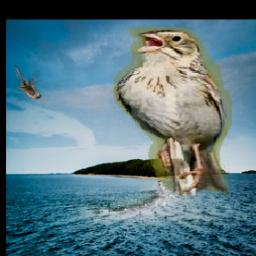Cuckoo: (15, 66, 42, 100)
Sparrow: (111, 27, 232, 197)
